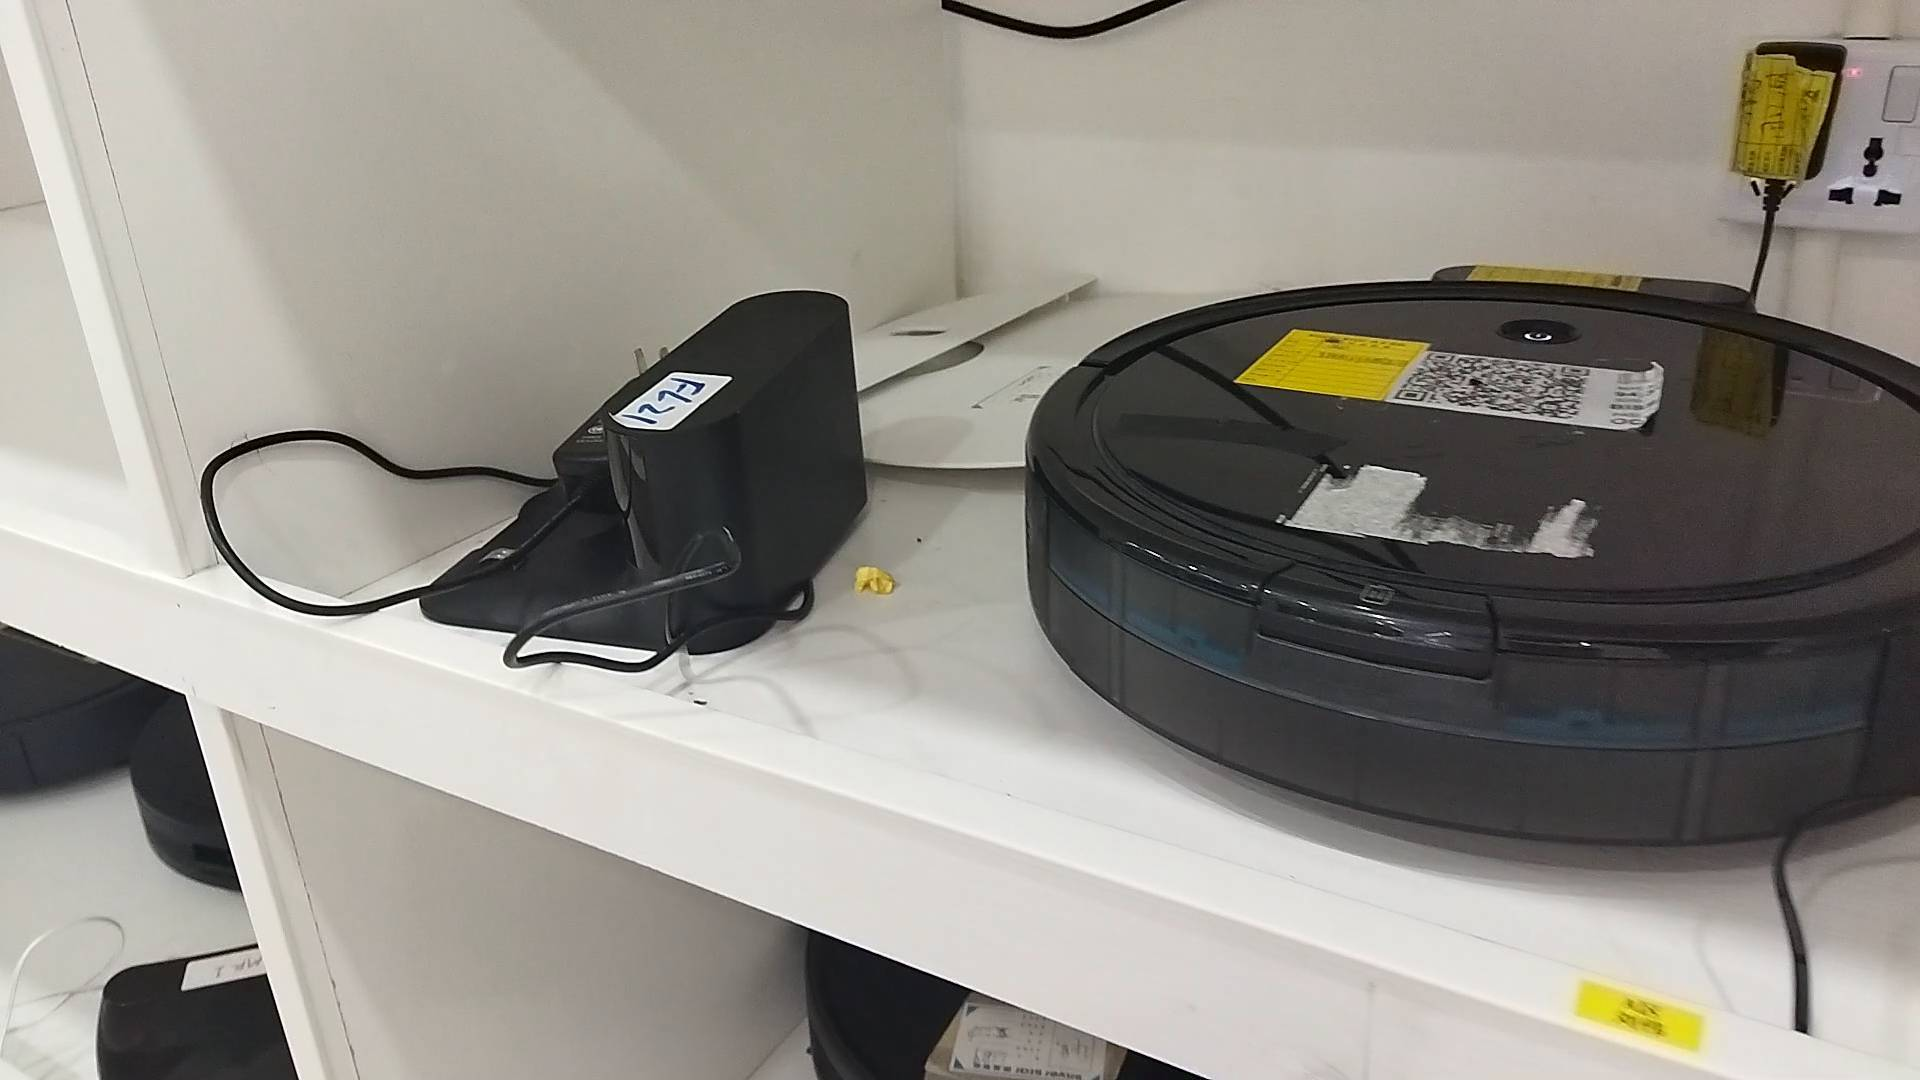recharge seat: (422, 289, 872, 658)
